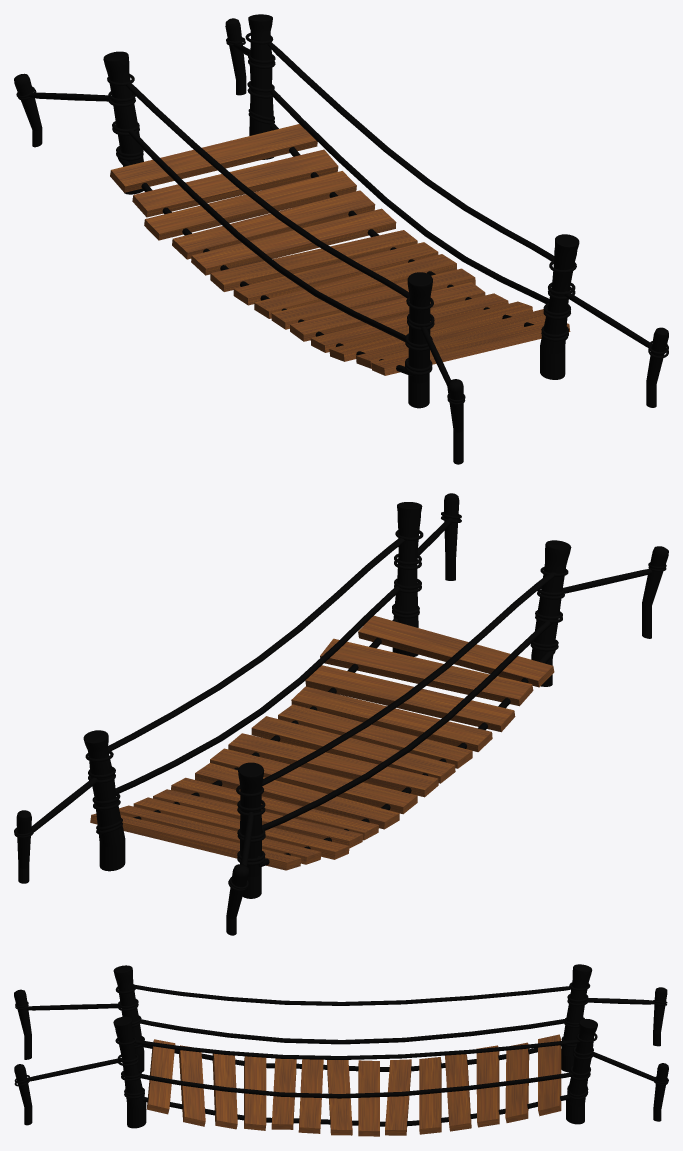
File: bridge.fbx
3 views of the same model, one above another, from view 1: azimuth 30°, elevation 25°; view 2: azimuth 150°, elevation 25°; view 3: azimuth 270°, elevation 25° (orthographic). The views are drawn at different scales.
Visible parts, largest first — view 1: plunk14, plunk13, plunk12, plunk10, plunk11, plunk9, plunk8, plunk7, wood001, plunk5, plunk6, wood006 (+15 smaller); view 2: plunk2, plunk3, plunk1, plunk4, plunk7, plunk6, plunk8, plunk5, plunk9, wood002, plunk10, plunk12 (+14 smaller); view 3: rope3, rope4, rope, rope2, wood001, plunk12, plunk14, plunk10, plunk11, plunk2, plunk9, plunk13 (+20 smaller).
Part boxes in pixels (bbox=[...]): plunk14: bbox=[110, 124, 317, 192]; plunk13: bbox=[132, 149, 338, 217]; plunk12: bbox=[144, 171, 356, 240]; plunk10: bbox=[191, 208, 396, 275]; plunk11: bbox=[172, 190, 375, 259]; plunk9: bbox=[210, 230, 417, 291]; plunk8: bbox=[233, 242, 438, 305]; plunk7: bbox=[254, 254, 456, 318]; wood001: bbox=[540, 234, 579, 379]; plunk5: bbox=[290, 282, 485, 341]; plunk6: bbox=[271, 268, 475, 329]; wood006: bbox=[407, 272, 432, 408]; plunk2: bbox=[320, 638, 533, 706]; plunk3: bbox=[305, 665, 515, 732]; plunk1: bbox=[358, 615, 554, 687]; plunk4: bbox=[291, 686, 492, 751]; plunk7: bbox=[228, 733, 438, 797]; plunk6: bbox=[251, 716, 455, 783]; plunk8: bbox=[210, 748, 417, 814]; plunk5: bbox=[278, 704, 472, 768]; plunk9: bbox=[195, 763, 399, 829]; wood002: bbox=[83, 730, 125, 871]; plunk10: bbox=[171, 777, 378, 840]; plunk12: bbox=[133, 797, 349, 859]; rope3: bbox=[138, 1071, 588, 1098]; rope4: bbox=[141, 1019, 564, 1044]; rope: bbox=[133, 1039, 580, 1059]; rope2: bbox=[133, 985, 572, 1005]; wood001: bbox=[113, 1016, 146, 1128]; plunk12: bbox=[476, 1045, 499, 1127]; plunk14: bbox=[538, 1034, 561, 1116]; plunk10: bbox=[419, 1057, 441, 1134]; plunk11: bbox=[445, 1054, 471, 1131]; plunk2: bbox=[179, 1045, 205, 1126]; plunk9: bbox=[385, 1059, 411, 1135]; plunk13: bbox=[505, 1042, 529, 1122].
Size of the model in its own units: 4.64 by 2.72 by 15.03.
